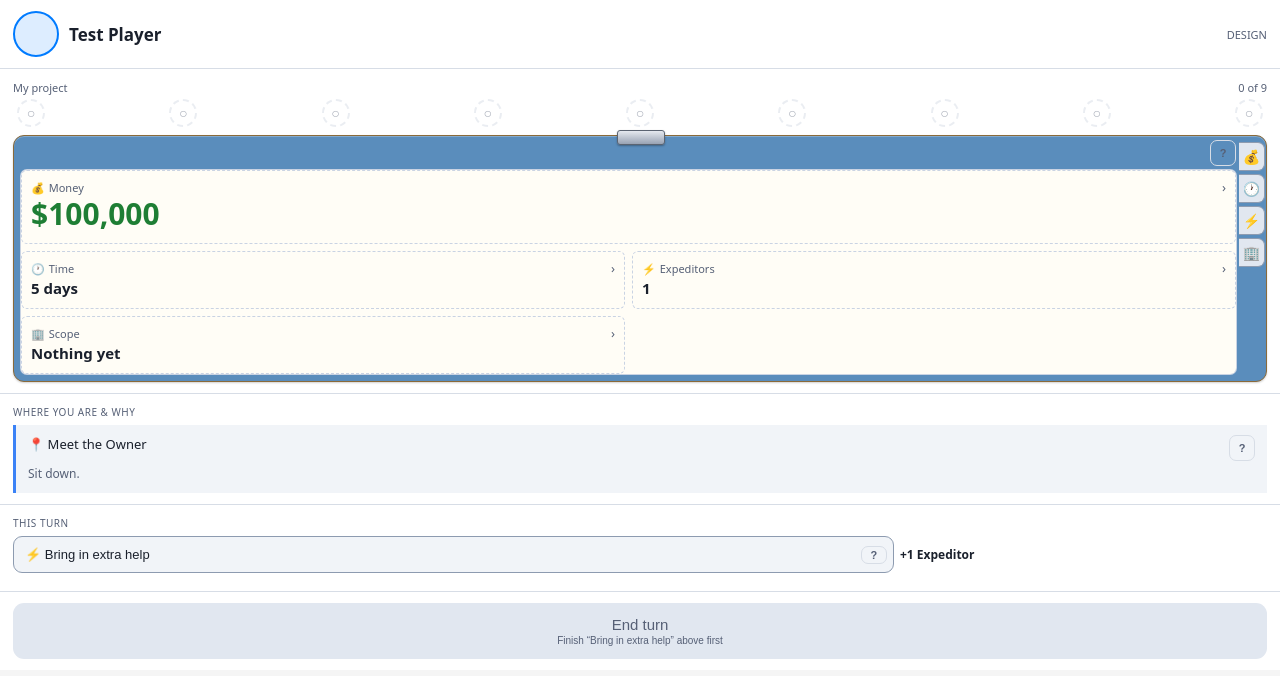
PlayerPanelV2 — one "?" everywhere › the space's own "?" › closes again when pressed again
Step 1. Click the button named "What's this? Meet the Owner" → (1242, 448), box [1229,435,1255,461]
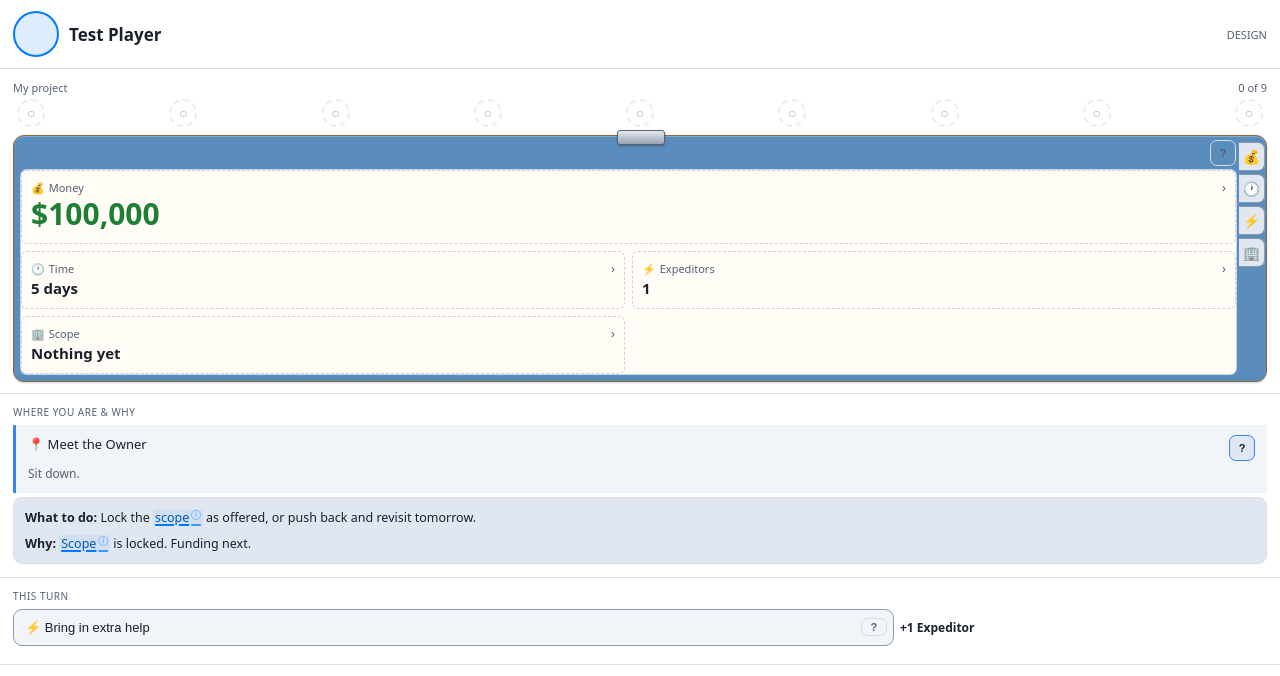
Step 2. Click the button named "What's this? Meet the Owner" → (1242, 448), box [1229,435,1255,461]
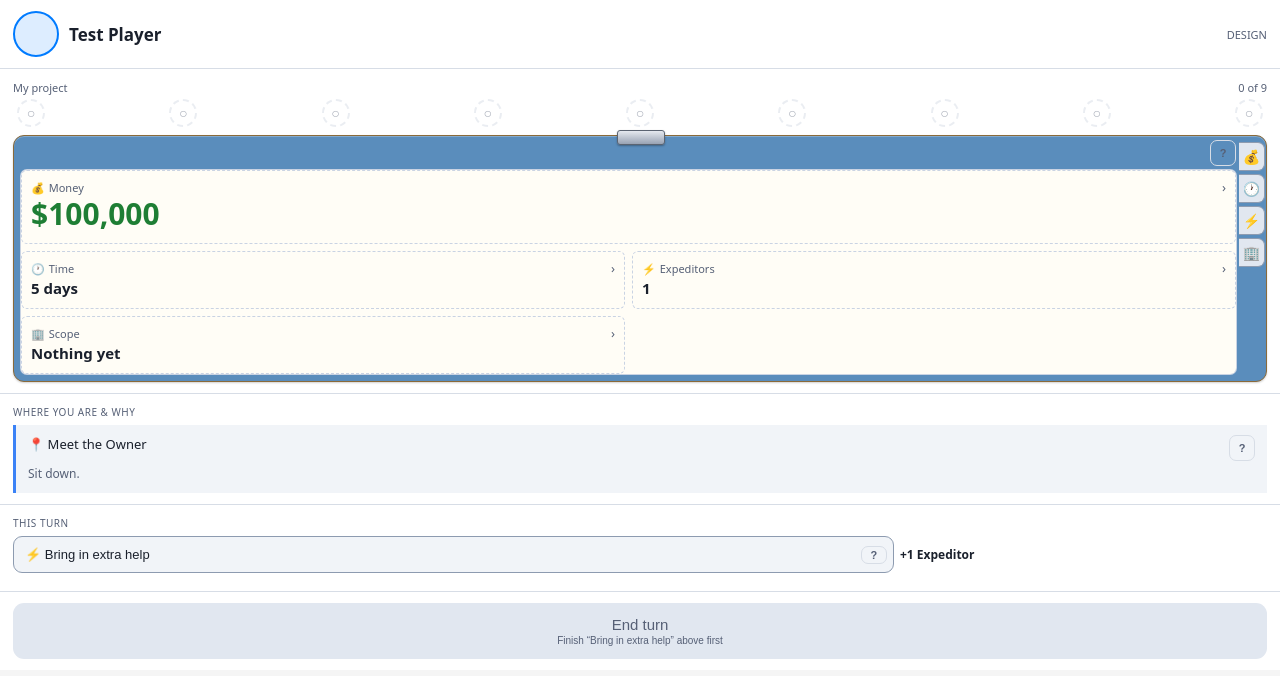
Check: no elements with test id "help-card" are shown
Check: the button named "What's this? Meet the Owner" is collapsed, box [1229,435,1255,461]
